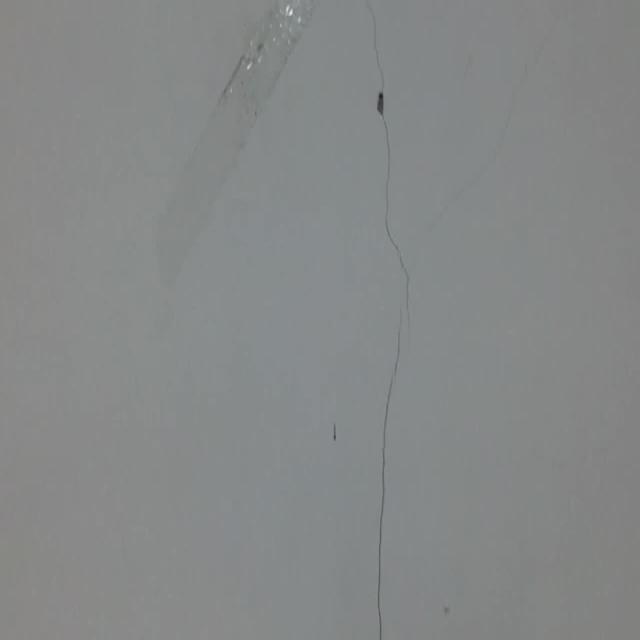Crack: (362, 0, 419, 640)
